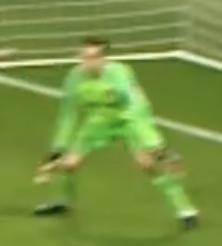goalkeeper: (19, 27, 215, 246)
